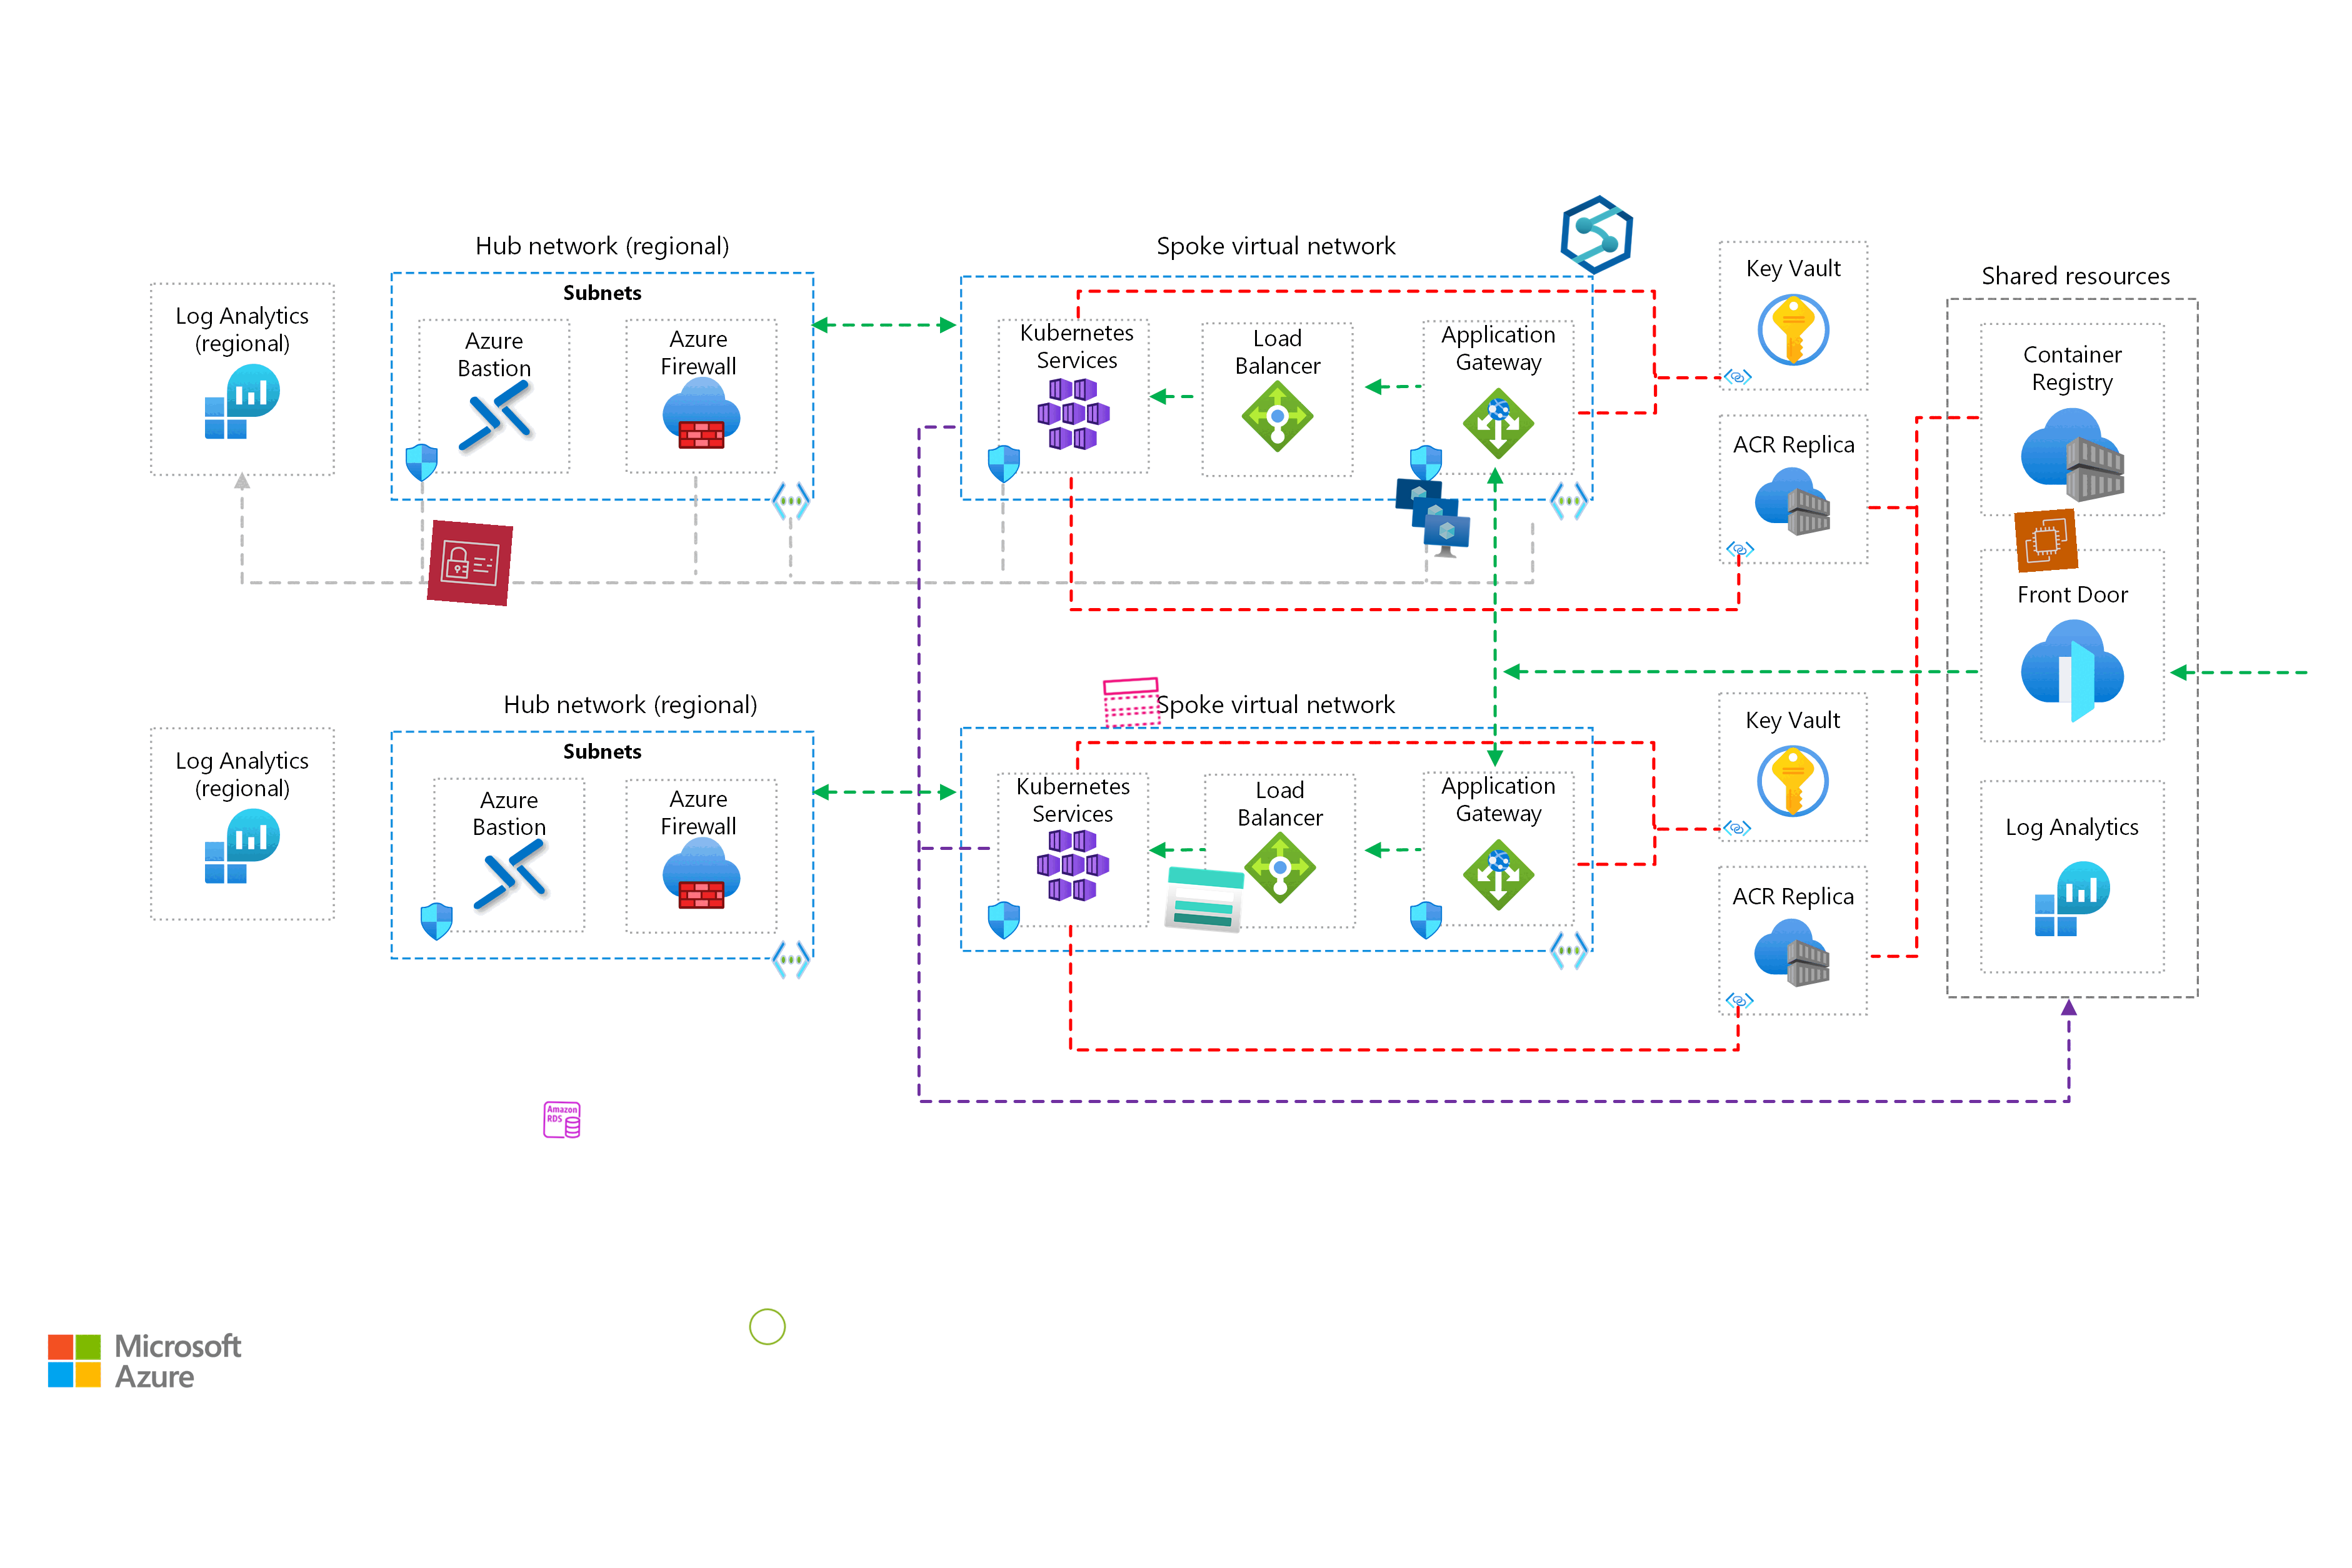aws_amazon_ec2: (2014, 507, 2079, 572)
aws_aurora_amazon_rds_instance: (541, 1099, 583, 1141)
aws_identity_and_access_management: (427, 520, 514, 607)
aws_simple_notification_service_topic: (1099, 670, 1164, 735)
aws_simple_storage_service_object: (746, 1305, 789, 1347)
azure_storage_accounts: (1160, 856, 1248, 943)
azure_synapse_analytics: (1554, 193, 1640, 278)
azure_vm_scale_sets: (1388, 474, 1475, 560)
